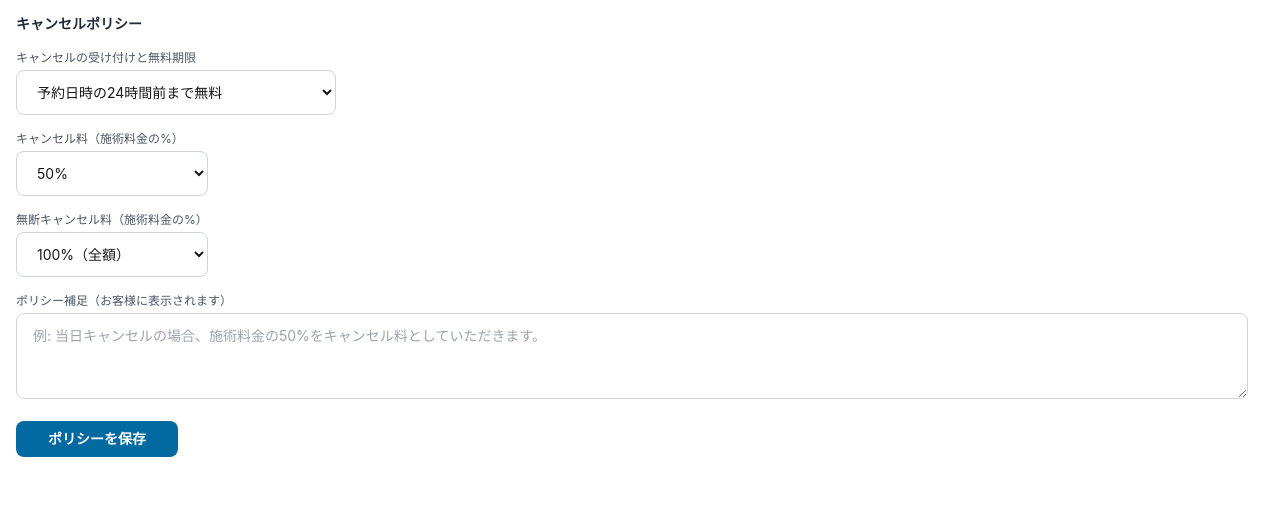
Test: upsert 失敗 → エラー表示・「保存しました」は出さない（成功偽装防止・回帰防止）
Click the button "ポリシーを保存" at [97, 439], box [16,421,178,457]
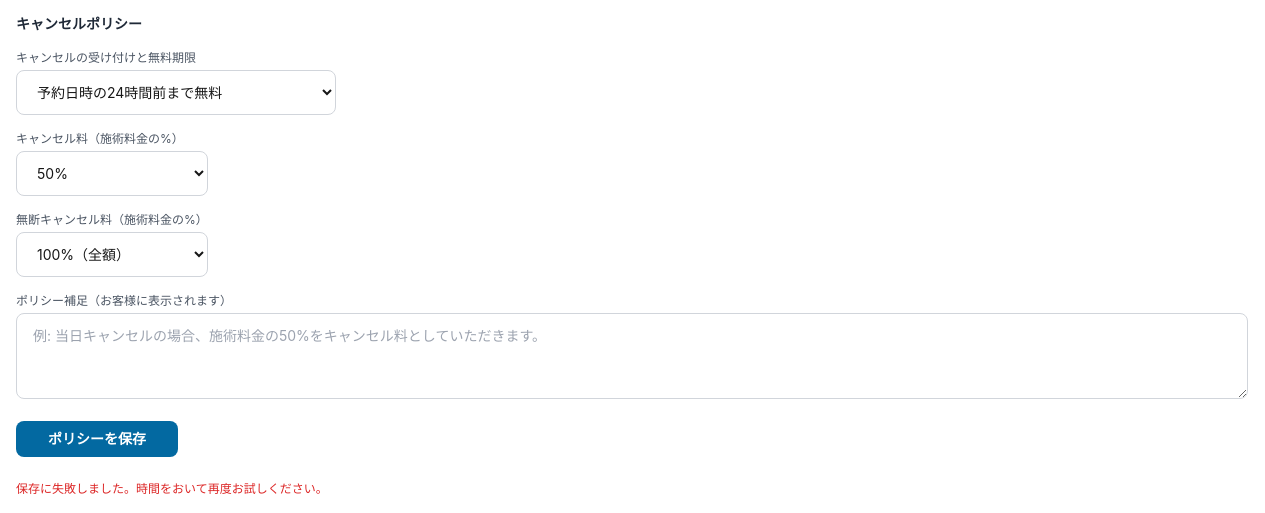
Expected: the message shows "保存に失敗しました", [16,481,328,496]
